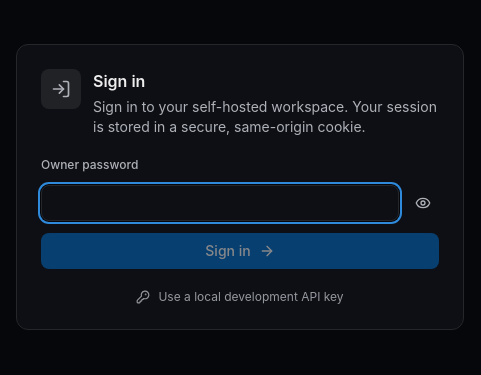
LoginPage › surfaces an unexpected login failure without navigating
Type "owner password" into the password field labelled "Owner password" at (220, 203), box [41,185,399,221]
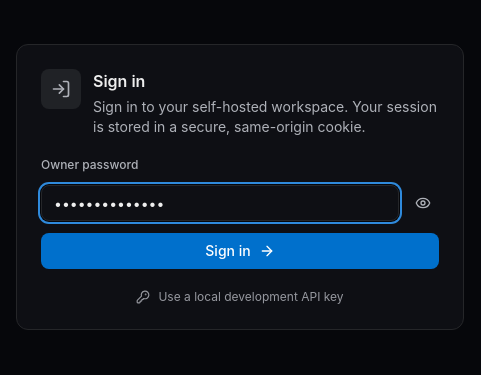
Click the button "Sign in" at (240, 251), box [41,233,439,269]
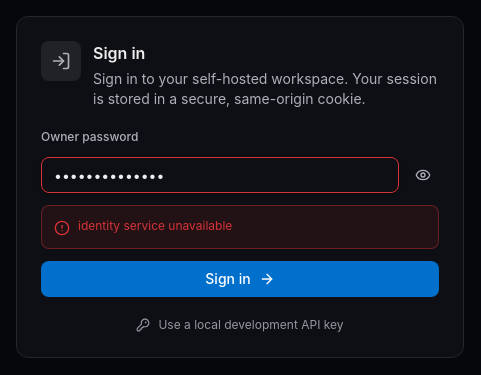
expect the message reads "identity service unavailable": met, box [78,218,232,233]
